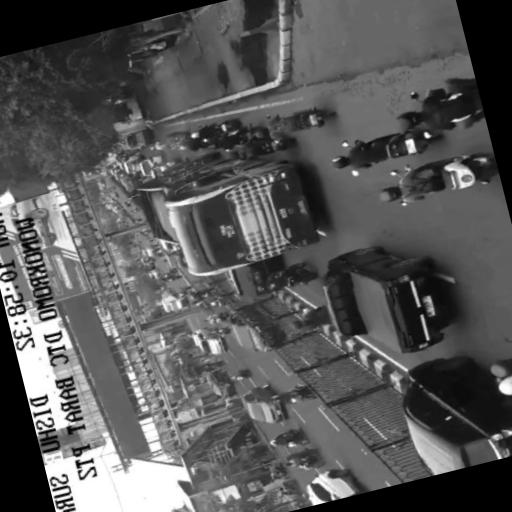bus: (167, 161, 319, 275), (133, 156, 240, 243), (124, 129, 153, 149)
car: (323, 247, 452, 353), (404, 356, 511, 475), (232, 305, 285, 351), (10, 199, 57, 247), (226, 259, 279, 299), (307, 469, 363, 505), (242, 384, 286, 423), (162, 152, 220, 178), (232, 323, 272, 351), (195, 329, 227, 355), (208, 370, 236, 397), (151, 159, 180, 178), (140, 155, 163, 176), (166, 250, 188, 269), (192, 328, 214, 346), (121, 154, 141, 173), (159, 239, 181, 252), (149, 269, 160, 279), (143, 247, 154, 257)
truck: (323, 247, 452, 353), (162, 291, 180, 311)
